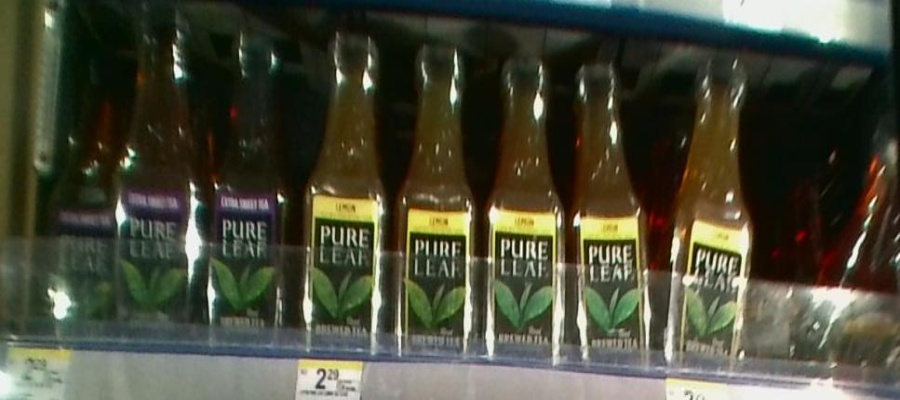bottle: (387, 29, 477, 362), (206, 18, 296, 344), (478, 39, 569, 361), (115, 16, 205, 341), (665, 50, 754, 378), (301, 23, 384, 355), (573, 56, 654, 372), (46, 49, 111, 335), (831, 115, 899, 384)
